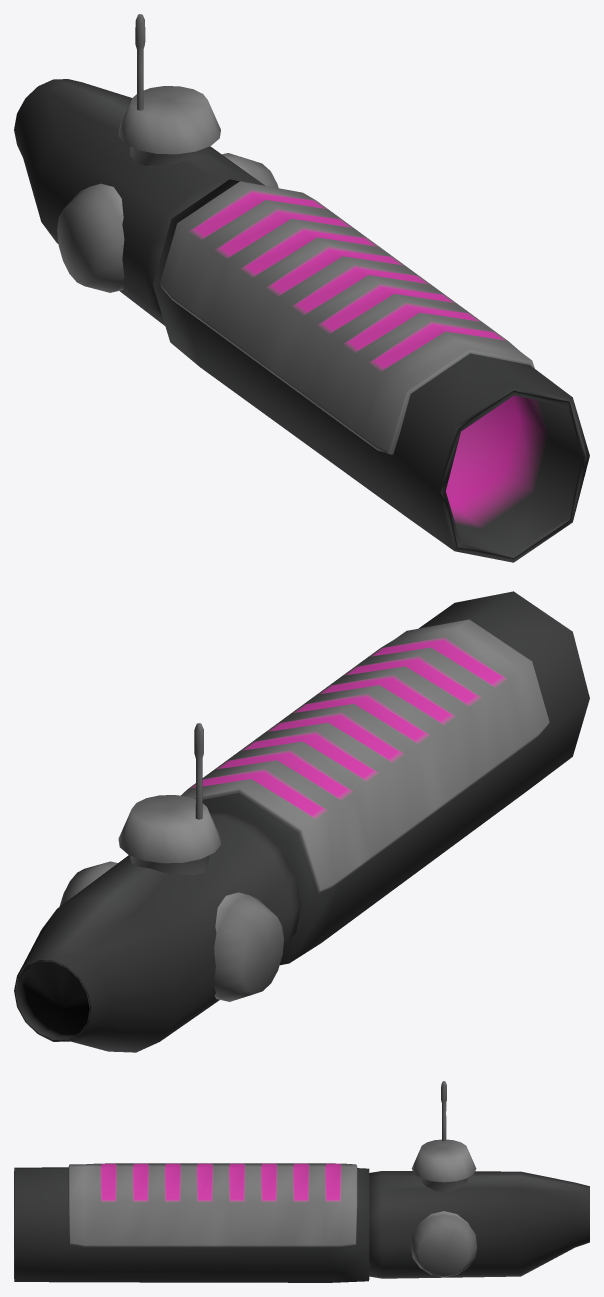
File: TurretBody.fbx
3 views of the same model, one above another, from view 1: azimuth 30°, elevation 25°; view 2: azimuth 150°, elevation 25°; view 3: azimuth 270°, elevation 25° (orthographic). The views are drawn at different scales.
Parts seen in each view (by area): view 1: TurretBody; view 2: TurretBody; view 3: TurretBody.
Boxes of the visible parts, left/top/right/bottom form: TurretBody: left=14, top=14, right=589, bottom=562; TurretBody: left=14, top=591, right=589, bottom=1052; TurretBody: left=14, top=1081, right=589, bottom=1282.
Bounding box in the file's own units: 0.3881 × 0.5799 × 1.59.
